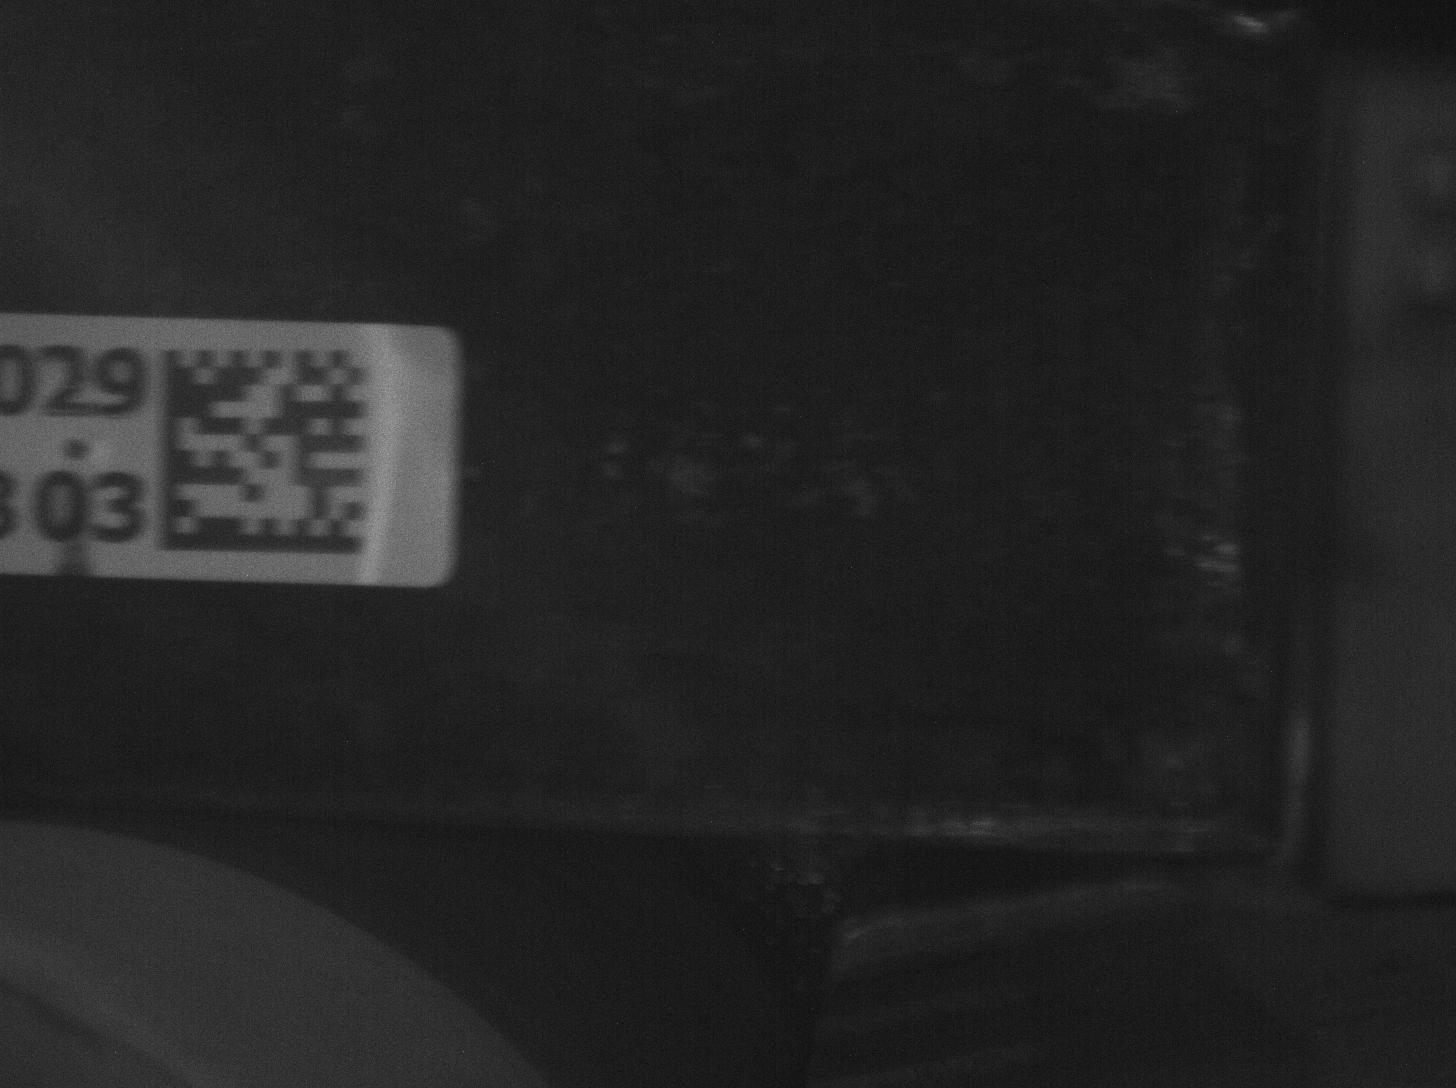data matrix: (149, 334, 384, 566)
